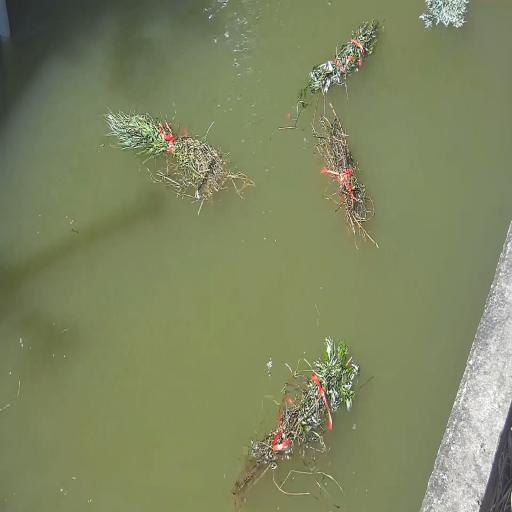twig: (232, 331, 363, 509), (101, 107, 252, 215), (314, 104, 378, 251), (293, 17, 380, 120), (419, 0, 470, 30)
